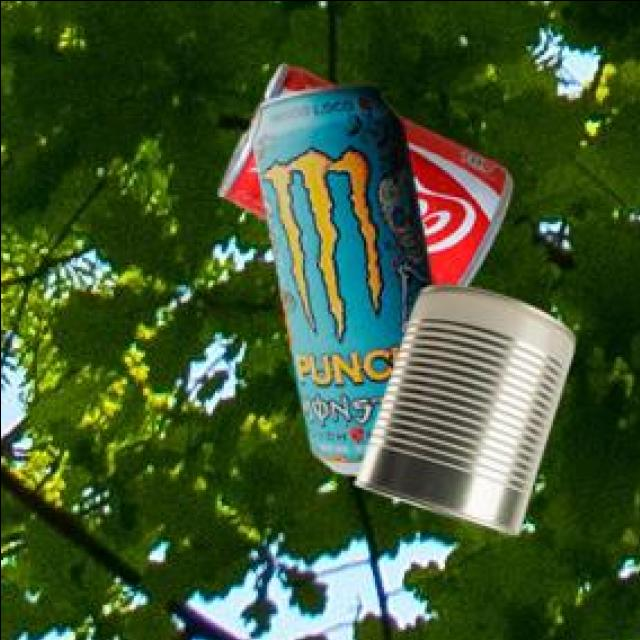logam: (256, 89, 434, 479), (222, 66, 515, 290), (357, 287, 576, 537)
